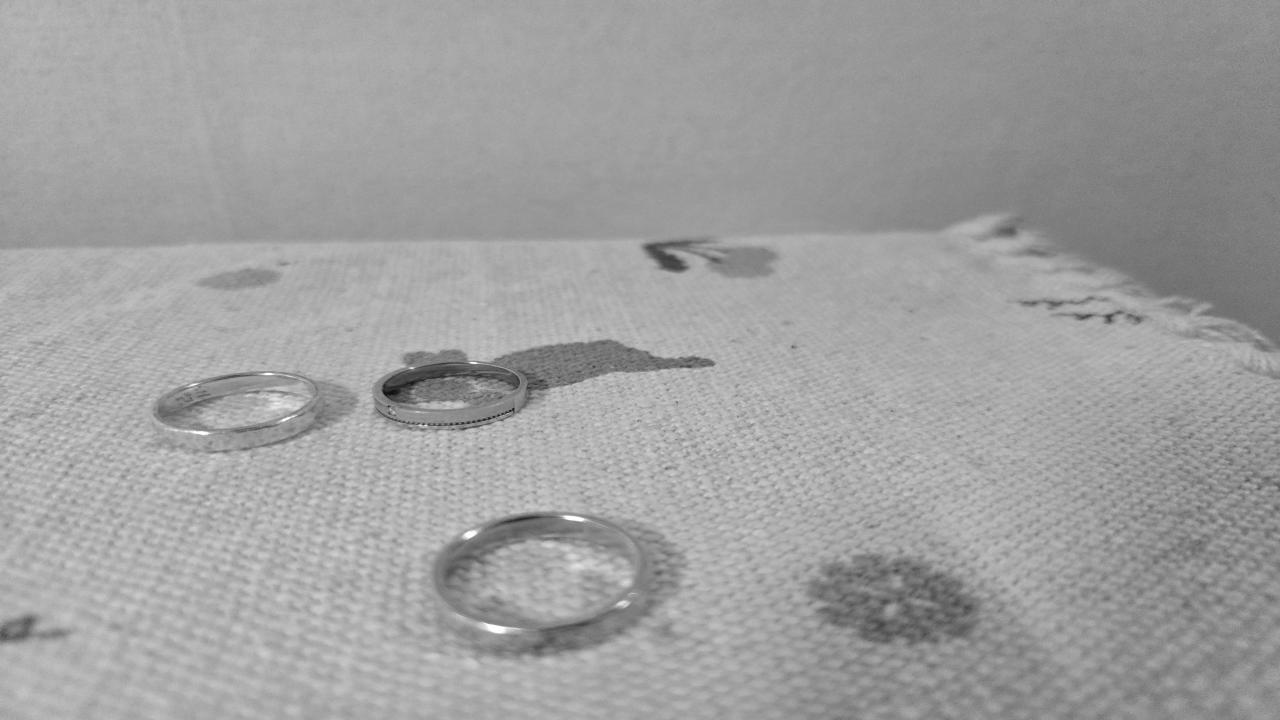ring: (432, 512, 650, 650), (153, 369, 321, 452), (375, 359, 530, 429)
